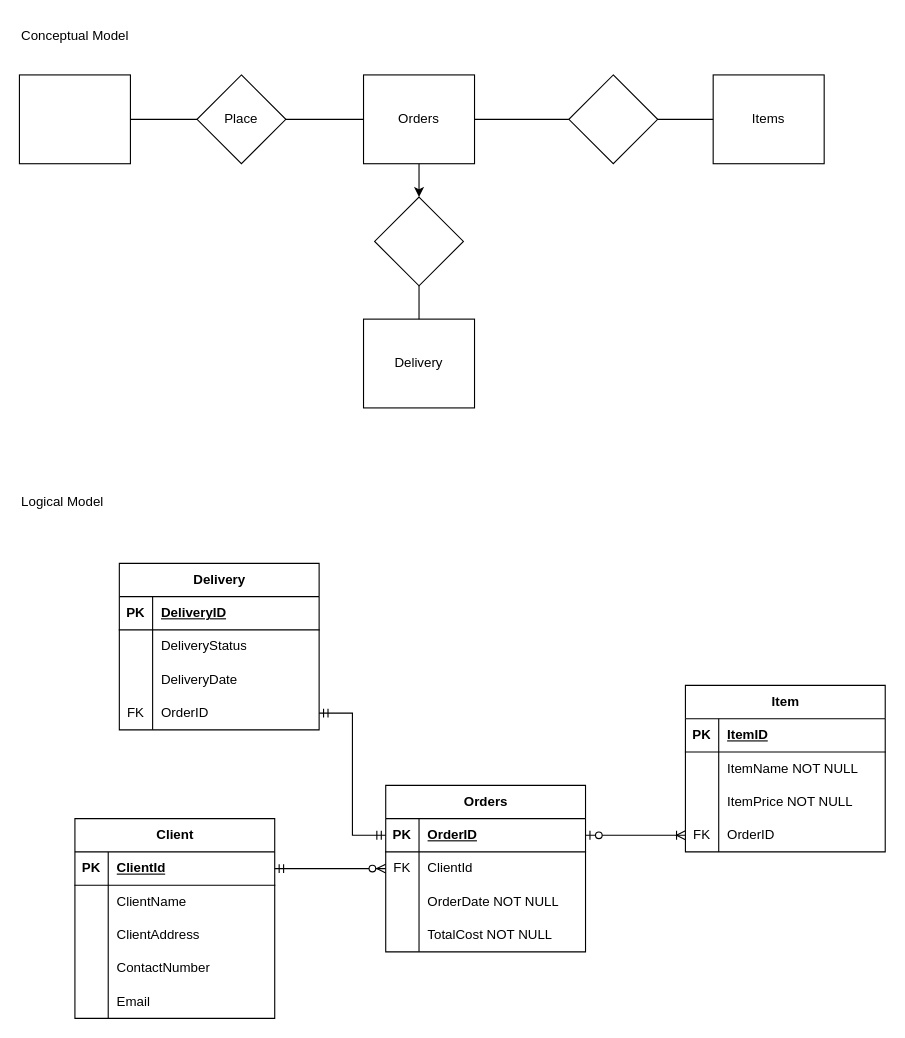
Some shapes in this 905 by 1038 pixel diagram are drawn without their labels. Here are the shapes that lost their labels. From the top down, the centre of each, then its label:
At pixel 74 119: "Clients".
At pixel 613 119: "Contains".
At pixel 418 241: "Delivered".
